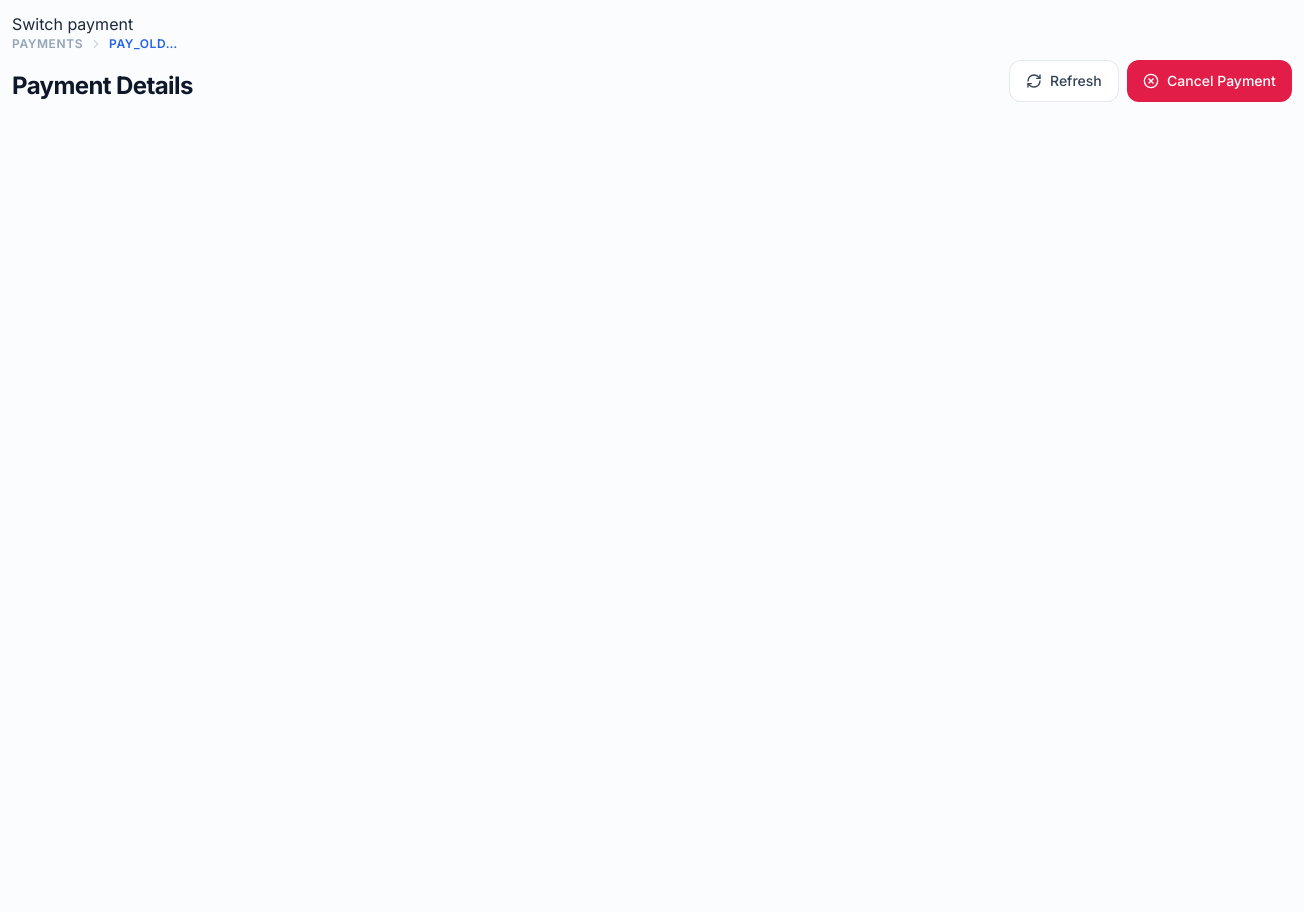
Test: a late poll cannot replace a newer manual refresh with the same status
Step 1. Click the button "Refresh" → (1064, 81), box [1010,60,1119,102]
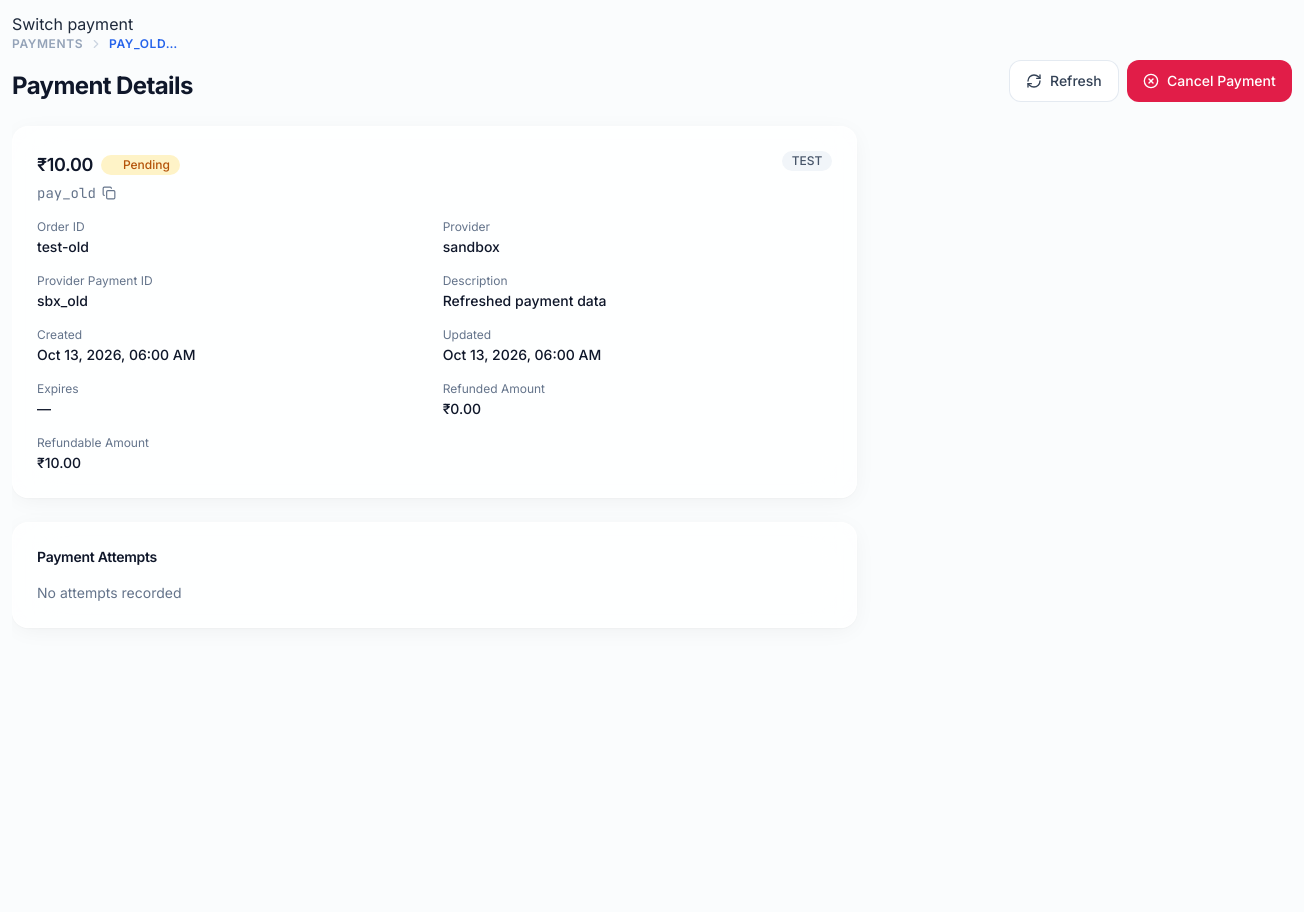
Expected: the text "Refreshed payment data" is shown, [443,292,607,309]
